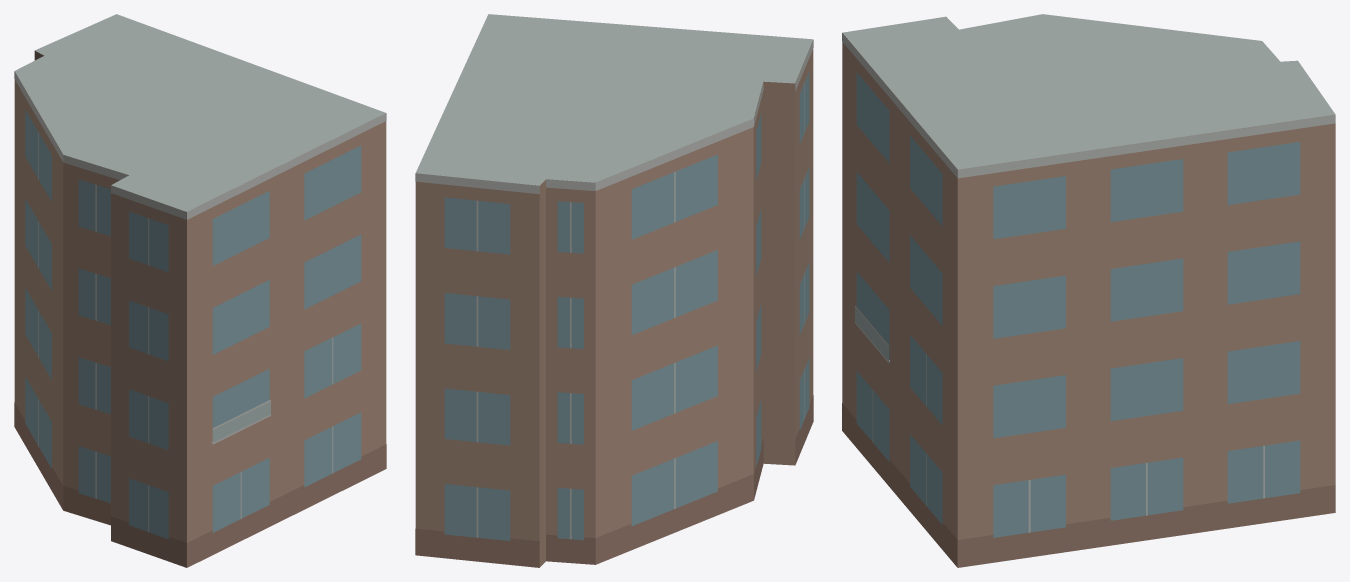
Rendered from survey-upis-33034296.glb.
The picture shows the model from 3 angles, left to right: view 1: azimuth 30°, elevation 25°; view 2: azimuth 150°, elevation 25°; view 3: azimuth 270°, elevation 25°; orthographic projection. The views are drawn at different scales.
Parts seen in each view (by area): view 1: survey-upis-33034296.tmp; view 2: survey-upis-33034296.tmp; view 3: survey-upis-33034296.tmp.
Part boxes in pixels (x1,y1,x2,y2): survey-upis-33034296.tmp: (14,14,386,567); survey-upis-33034296.tmp: (415,14,813,567); survey-upis-33034296.tmp: (842,14,1335,567).
Bounding box in the file's own units: 9.32 × 11.1 × 12.48.
